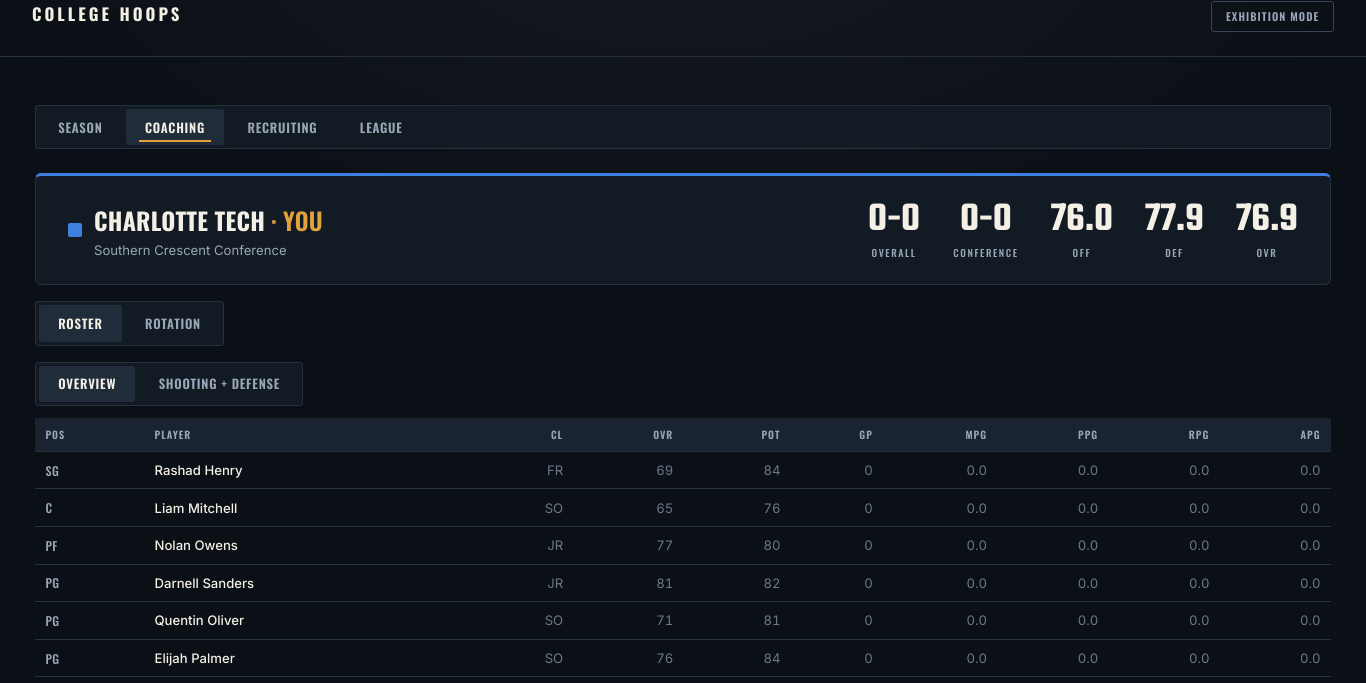
Test case: Coaching Rotation — Simple / Advanced › applies a valid Simple edit and reflects it in Advanced without manual React sync
Click the button "Rotation" at {"x": 173, "y": 323}, box [126,305,220,342]
(page scrolled)
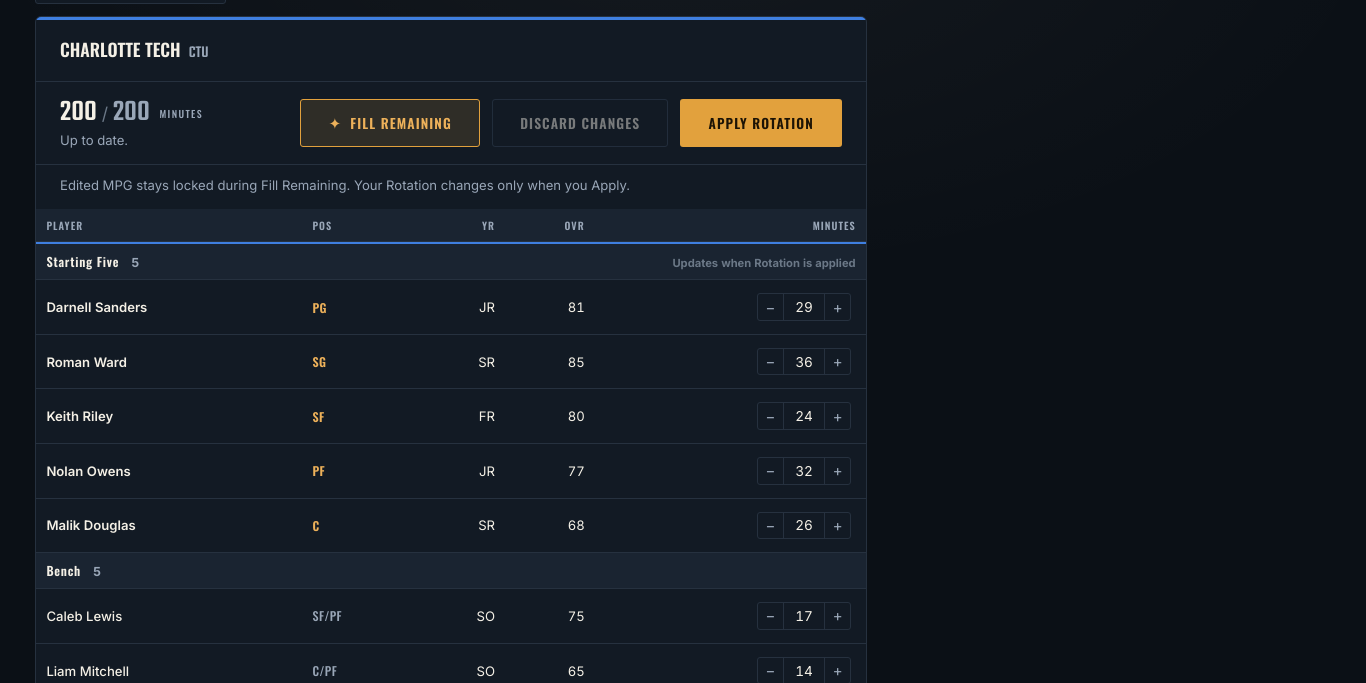
Click the button "+" in the row of "85" at {"x": 838, "y": 362}, box [825,349,850,374]
(page scrolled)
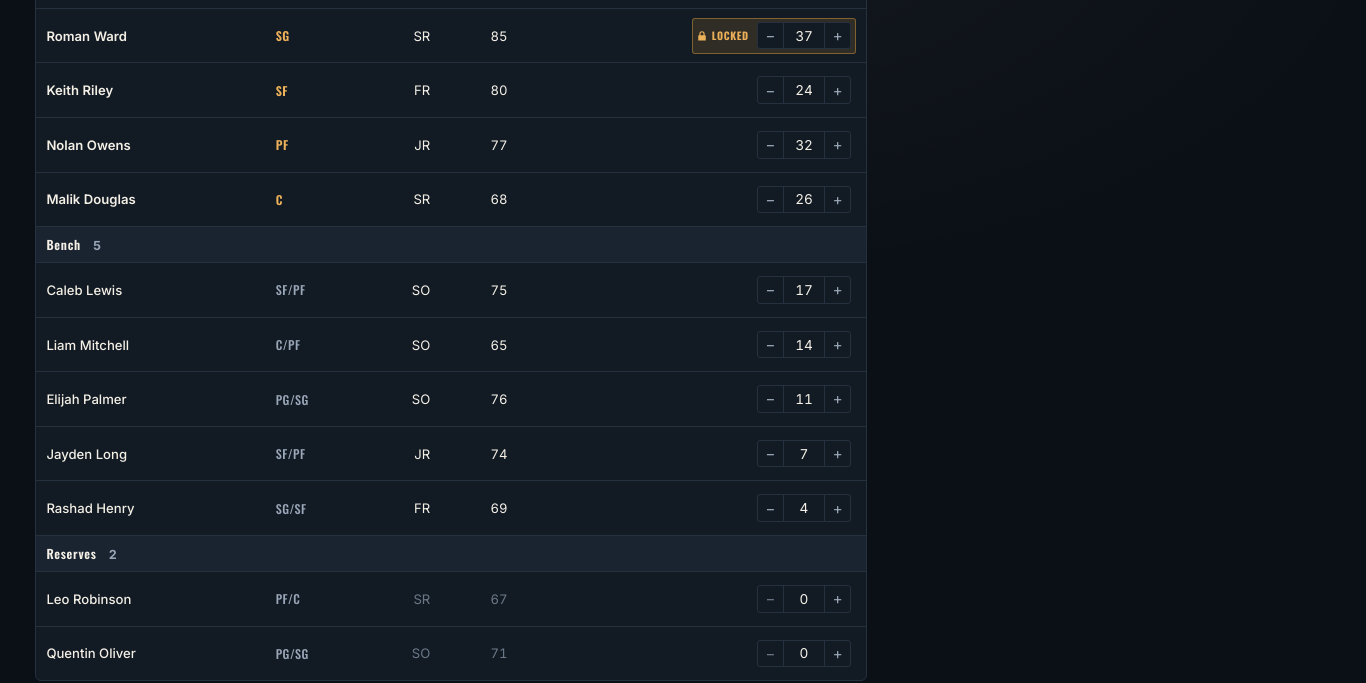
Click the button "−" in the row of "74" at {"x": 770, "y": 454}, box [758,441,783,466]
(page scrolled)
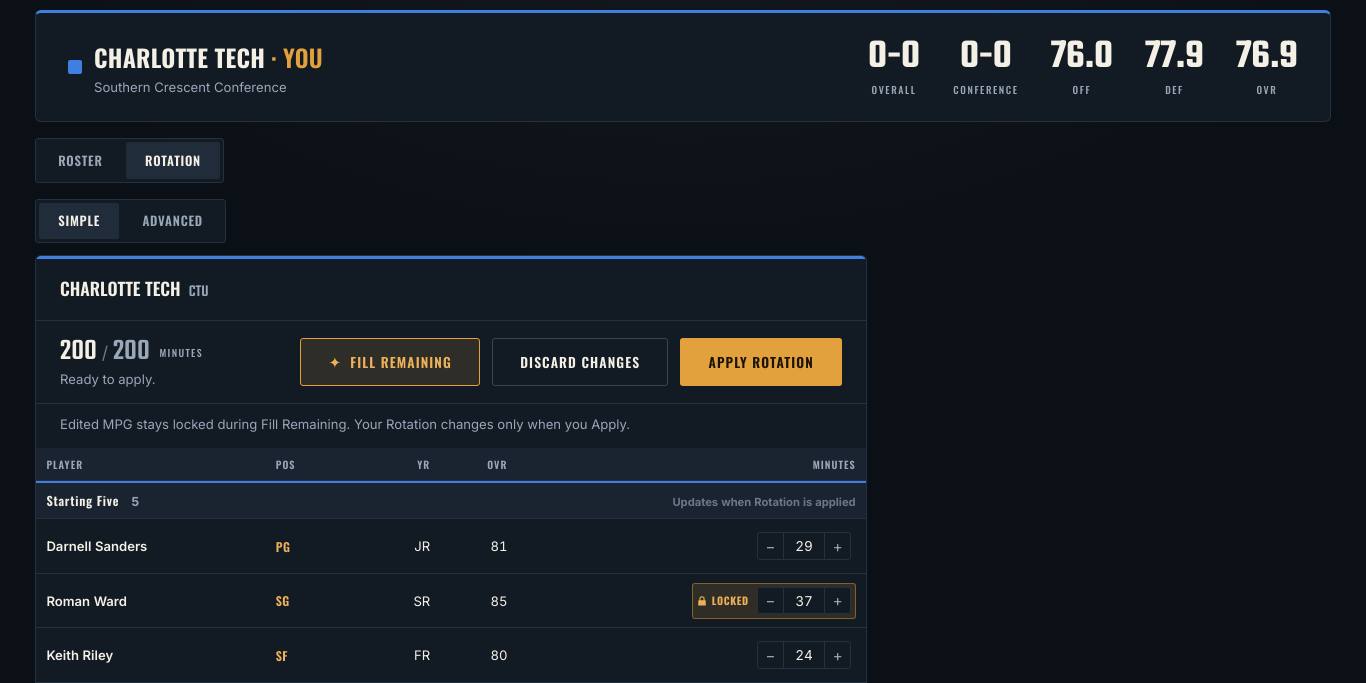
Click the button "Apply Rotation" at {"x": 761, "y": 362}, box [680,338,842,386]
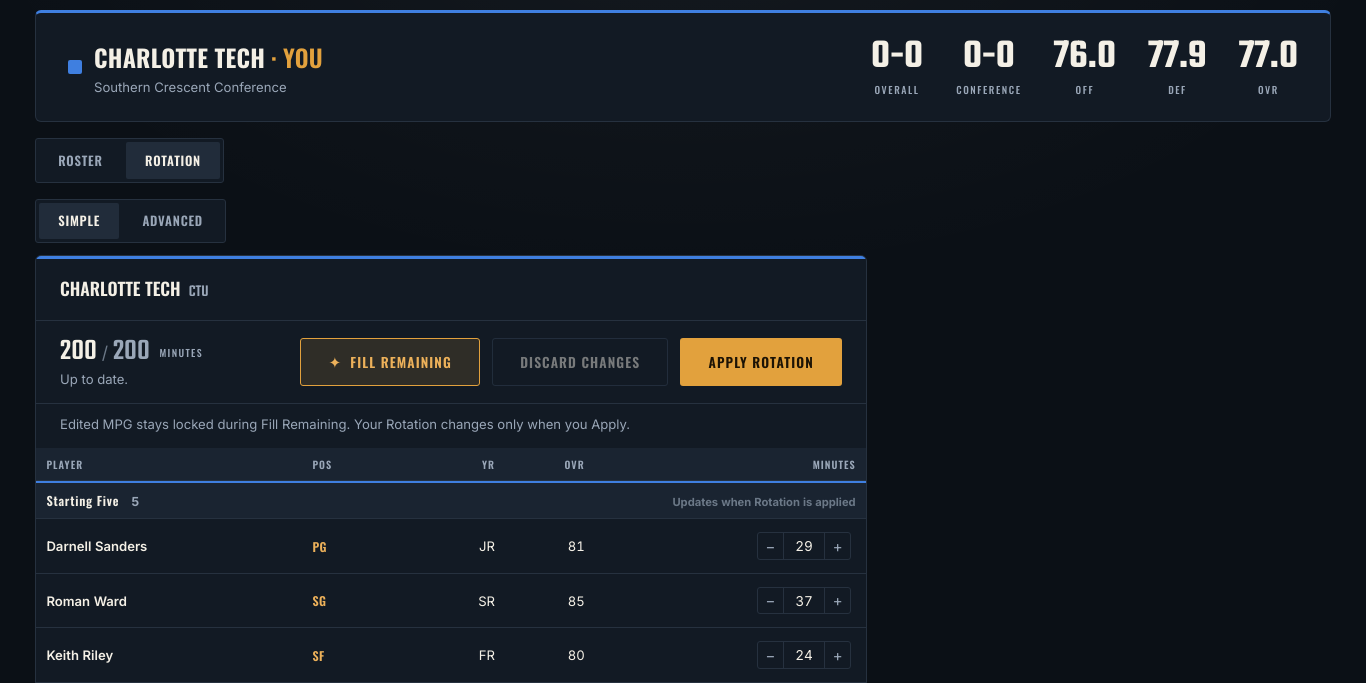
Click the button "Advanced" at {"x": 173, "y": 221}, box [123,203,222,239]
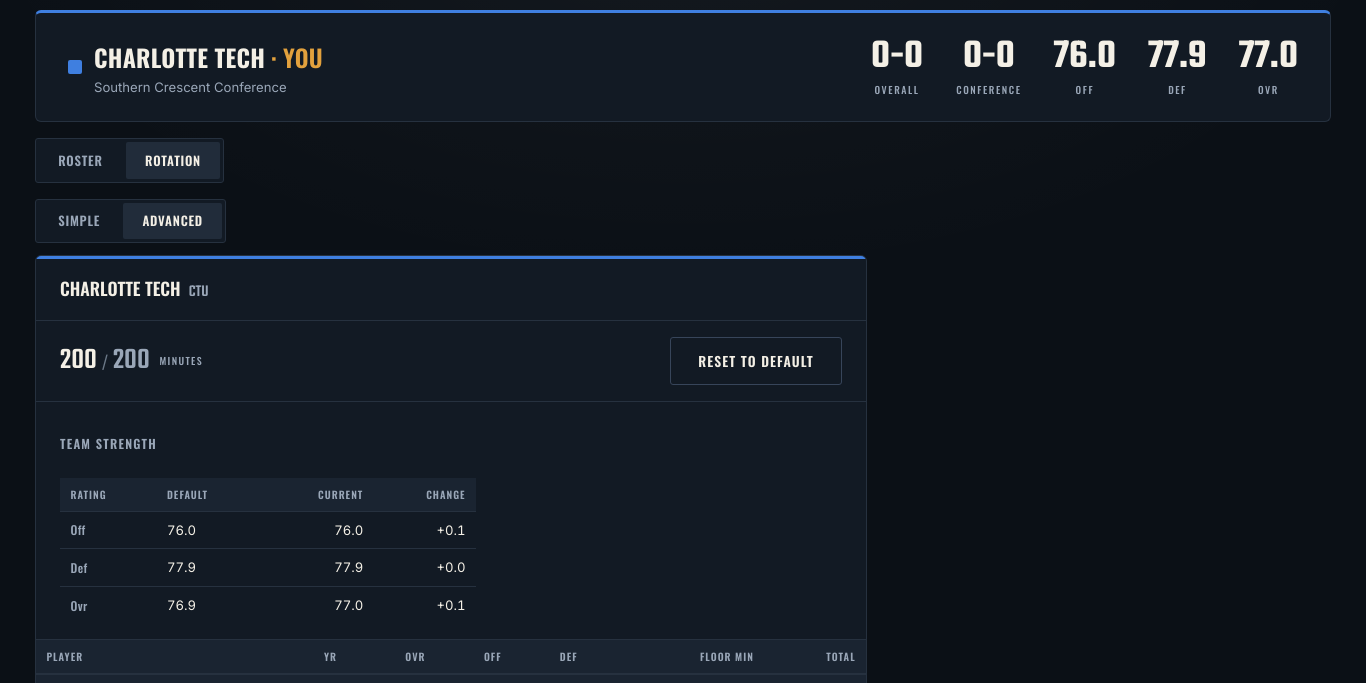
Result: the heading "Team Strength" is shown at [60,434,157,453]
